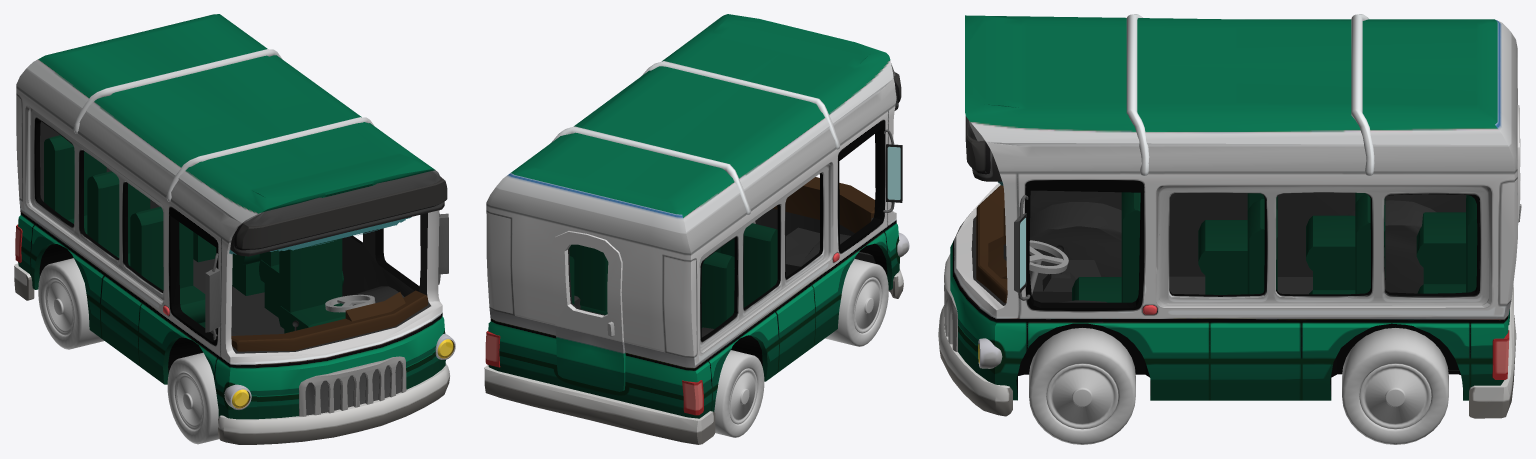
The model's file is Bus_Seyf.fbx.
3 renders of one model, left to right at view 1: azimuth 30°, elevation 25°; view 2: azimuth 150°, elevation 25°; view 3: azimuth 270°, elevation 25°, orthographic. The views are drawn at different scales.
Visible parts, largest first — view 1: HCR2_Bus_Body.001, HCR2_Bus_Body, HCR2_Bus_Seats, HCR2_Bus_Front_Bumper, HCR2_Bus_Header, HCR2_Bus_Interior.001, HCR2_Bus_Dash, HCR2_Bus_Grl, HCR2_Bus_Header_H, HCR2_Bus_Roof_El, HCR2_Bus_RR_Tire, HCR2_Bus_FR_Tire (+8 smaller); view 2: HCR2_Bus_Body.001, HCR2_Bus_Body, HCR2_Bus_Seats, HCR2_Bus_Rear_Bumper, HCR2_Bus_Door.001, HCR2_Bus_Door, HCR2_Bus_Roof_El, HCR2_Bus_Interior.001, HCR2_Bus_FR_Tire, HCR2_Bus_Dash, HCR2_Bus_RR_Tire, HCR2_Bus_RR_Rim (+3 smaller); view 3: HCR2_Bus_Body.001, HCR2_Bus_Body, HCR2_Bus_Interior.001, HCR2_Bus_Seats, HCR2_Bus_FL_Tire, HCR2_Bus_RL_Tire, HCR2_Bus_RL_Rim, HCR2_Bus_FL_Rim, HCR2_Bus_Roof_El, HCR2_Bus_Dash, HCR2_Bus_Front_Bumper, HCR2_Bus_Rear_Bumper (+7 smaller).
Part boxes in pixels (x1=…): HCR2_Bus_Body.001: x1=16, y1=14, x2=439, y2=352; HCR2_Bus_Body: x1=18, y1=197, x2=445, y2=419; HCR2_Bus_Seats: x1=44, y1=135, x2=345, y2=333; HCR2_Bus_Front_Bumper: x1=218, y1=363, x2=449, y2=444; HCR2_Bus_Header: x1=234, y1=177, x2=447, y2=250; HCR2_Bus_Interior.001: x1=42, y1=199, x2=414, y2=335; HCR2_Bus_Dash: x1=231, y1=290, x2=427, y2=351; HCR2_Bus_Grl: x1=299, y1=356, x2=406, y2=416; HCR2_Bus_Header_H: x1=230, y1=171, x2=444, y2=256; HCR2_Bus_Roof_El: x1=73, y1=49, x2=374, y2=201; HCR2_Bus_RR_Tire: x1=38, y1=258, x2=104, y2=349; HCR2_Bus_FR_Tire: x1=167, y1=352, x2=219, y2=444; HCR2_Bus_Body.001: x1=486, y1=14, x2=896, y2=356; HCR2_Bus_Body: x1=488, y1=211, x2=899, y2=418; HCR2_Bus_Seats: x1=569, y1=223, x2=777, y2=328; HCR2_Bus_Rear_Bumper: x1=484, y1=365, x2=715, y2=444; HCR2_Bus_Door.001: x1=551, y1=231, x2=623, y2=341; HCR2_Bus_Door: x1=555, y1=325, x2=625, y2=391; HCR2_Bus_Roof_El: x1=551, y1=61, x2=840, y2=214; HCR2_Bus_Interior.001: x1=574, y1=208, x2=875, y2=337; HCR2_Bus_FR_Tire: x1=825, y1=259, x2=888, y2=346; HCR2_Bus_Dash: x1=752, y1=177, x2=874, y2=233; HCR2_Bus_RR_Tire: x1=714, y1=350, x2=764, y2=437; HCR2_Bus_RR_Rim: x1=729, y1=368, x2=757, y2=424; HCR2_Bus_Body.001: x1=965, y1=15, x2=1517, y2=308; HCR2_Bus_Body: x1=950, y1=183, x2=1511, y2=400; HCR2_Bus_Interior.001: x1=1003, y1=190, x2=1466, y2=370; HCR2_Bus_Seats: x1=1072, y1=192, x2=1477, y2=302; HCR2_Bus_FL_Tire: x1=1029, y1=328, x2=1135, y2=444; HCR2_Bus_RL_Tire: x1=1342, y1=328, x2=1448, y2=444; HCR2_Bus_RL_Rim: x1=1359, y1=364, x2=1431, y2=429; HCR2_Bus_FL_Rim: x1=1046, y1=364, x2=1118, y2=429; HCR2_Bus_Roof_El: x1=1126, y1=14, x2=1374, y2=175; HCR2_Bus_Dash: x1=976, y1=185, x2=1041, y2=303; HCR2_Bus_Front_Bumper: x1=938, y1=305, x2=1012, y2=416; HCR2_Bus_Rear_Bumper: x1=1469, y1=284, x2=1516, y2=418.
Size of the model in its own units: 281 by 291 by 483.
